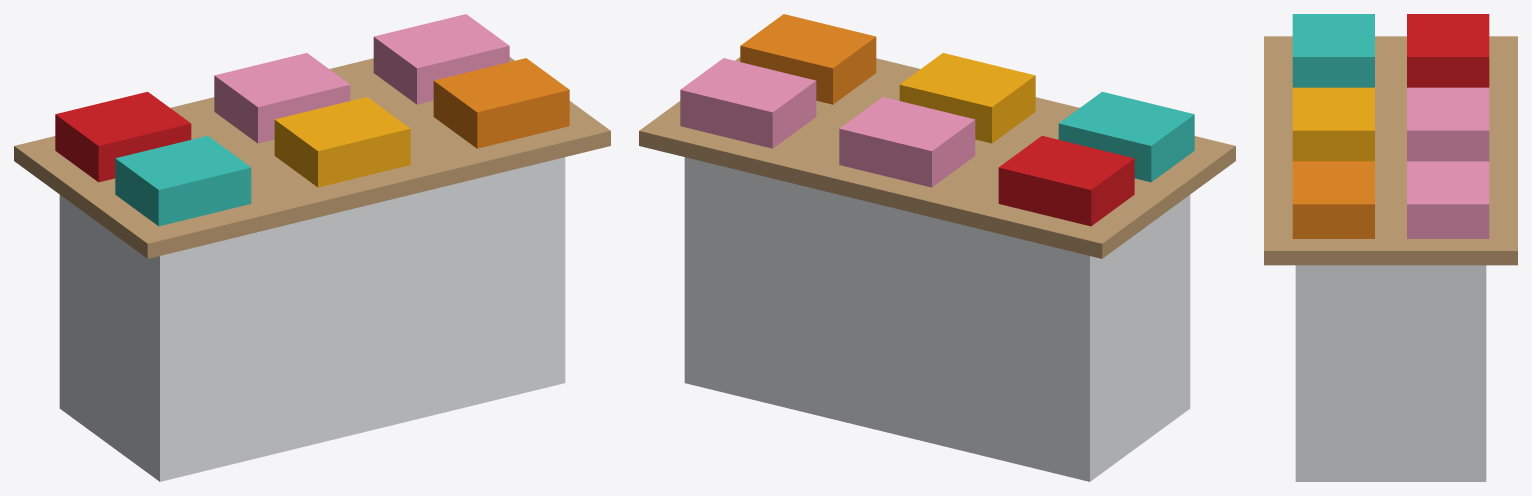
File: mal-010.glb
The picture shows the model from 3 angles, left to right: view 1: azimuth 30°, elevation 25°; view 2: azimuth 150°, elevation 25°; view 3: azimuth 270°, elevation 25°; orthographic projection. The views are drawn at different scales.
Visible parts, largest first — view 1: base, top, stack_4_3, stack_3_3, stack_1_3, stack_5_3, stack_6_3, stack_2_3, stack_6_1, stack_2_2, stack_4_1, stack_4_2 (+8 smaller); view 2: base, top, stack_3_3, stack_4_3, stack_2_3, stack_5_3, stack_6_3, stack_1_3, stack_5_1, stack_1_2, stack_3_1, stack_3_2 (+8 smaller); view 3: base, top, stack_5_3, stack_6_3, stack_1_3, stack_2_3, stack_3_3, stack_4_3, stack_1_2, stack_2_2, stack_3_2, stack_4_2 (+8 smaller).
Part boxes in pixels (x1,y1,x2,y2): base: [59, 157, 565, 481]; top: [14, 57, 610, 258]; stack_4_3: [274, 97, 410, 163]; stack_3_3: [214, 53, 350, 119]; stack_1_3: [55, 91, 191, 157]; stack_5_3: [373, 14, 509, 80]; stack_6_3: [433, 58, 569, 124]; stack_2_3: [115, 136, 251, 201]; stack_6_1: [433, 105, 569, 148]; stack_2_2: [115, 170, 251, 214]; stack_4_1: [274, 144, 410, 187]; stack_4_2: [274, 132, 410, 175]; base: [684, 157, 1190, 481]; top: [639, 57, 1235, 258]; stack_3_3: [839, 97, 975, 163]; stack_4_3: [899, 53, 1035, 119]; stack_2_3: [1058, 91, 1194, 157]; stack_5_3: [680, 58, 816, 124]; stack_6_3: [740, 14, 876, 80]; stack_1_3: [998, 136, 1134, 201]; stack_5_1: [680, 105, 816, 148]; stack_1_2: [998, 170, 1134, 214]; stack_3_1: [839, 144, 975, 187]; stack_3_2: [839, 132, 975, 175]; base: [1295, 265, 1486, 481]; top: [1264, 36, 1517, 265]; stack_5_3: [1407, 161, 1489, 215]; stack_6_3: [1292, 161, 1374, 215]; stack_1_3: [1407, 14, 1489, 68]; stack_2_3: [1292, 14, 1374, 68]; stack_3_3: [1407, 87, 1489, 141]; stack_4_3: [1292, 87, 1374, 141]; stack_1_2: [1407, 68, 1489, 79]; stack_2_2: [1292, 68, 1374, 79]; stack_3_2: [1407, 142, 1489, 153]; stack_4_2: [1292, 142, 1374, 153].
Bounding box in the file's own units: 1.6 × 0.97 × 0.8.
